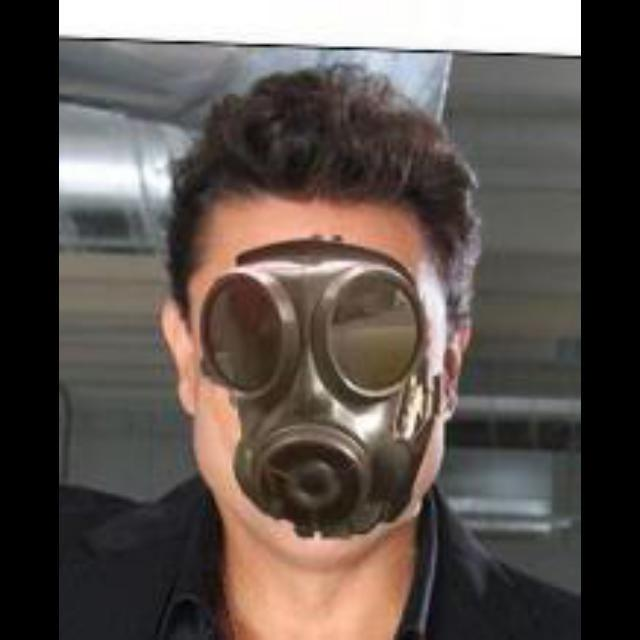suspicion: (148, 102, 498, 554)
